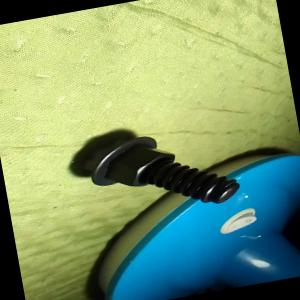parafuso: (84, 120, 241, 224)
